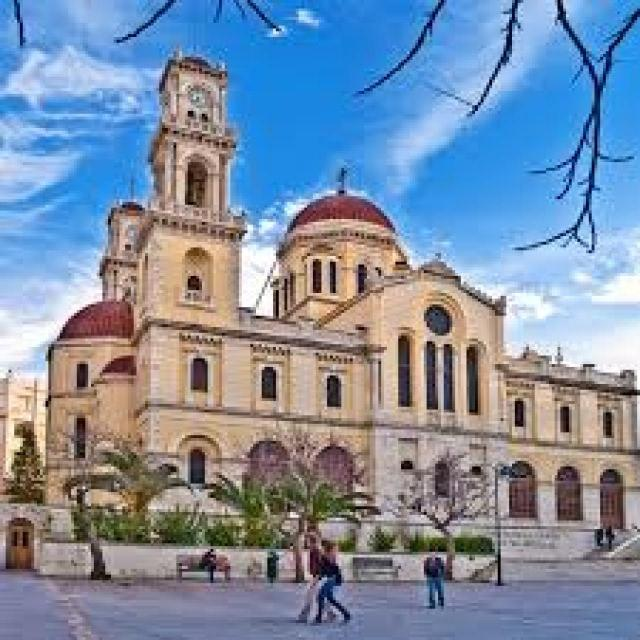Agios Minas: (43, 38, 640, 544)
